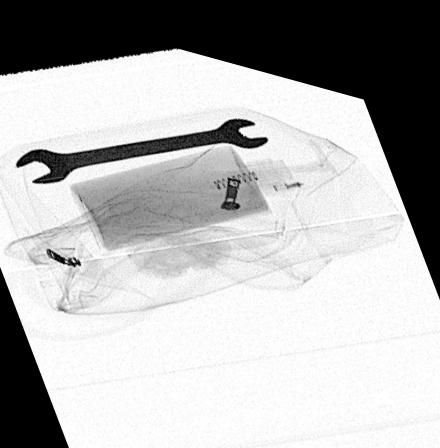Wrench: (12, 104, 268, 182)
